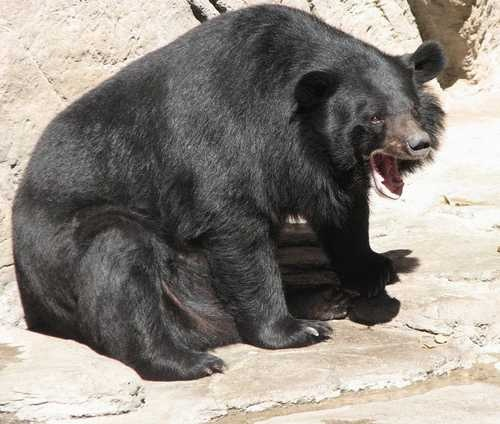bear: (320, 74, 448, 202)
